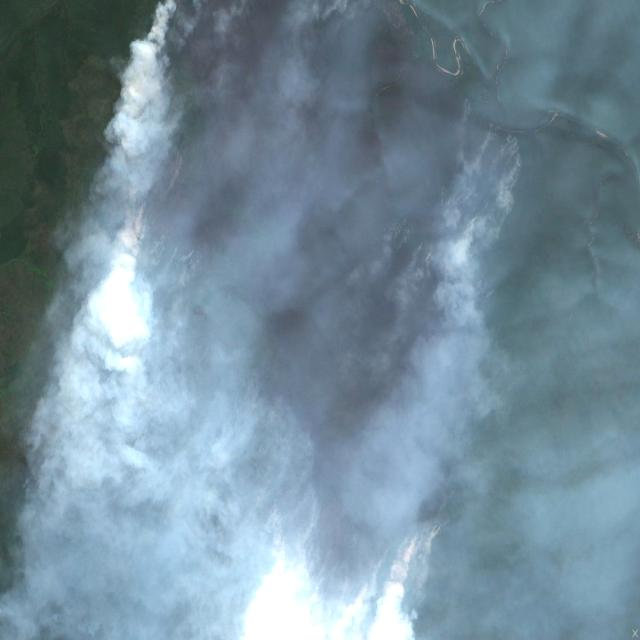fire: (378, 112, 530, 296), (96, 186, 160, 278), (371, 515, 461, 572), (130, 0, 192, 43)
